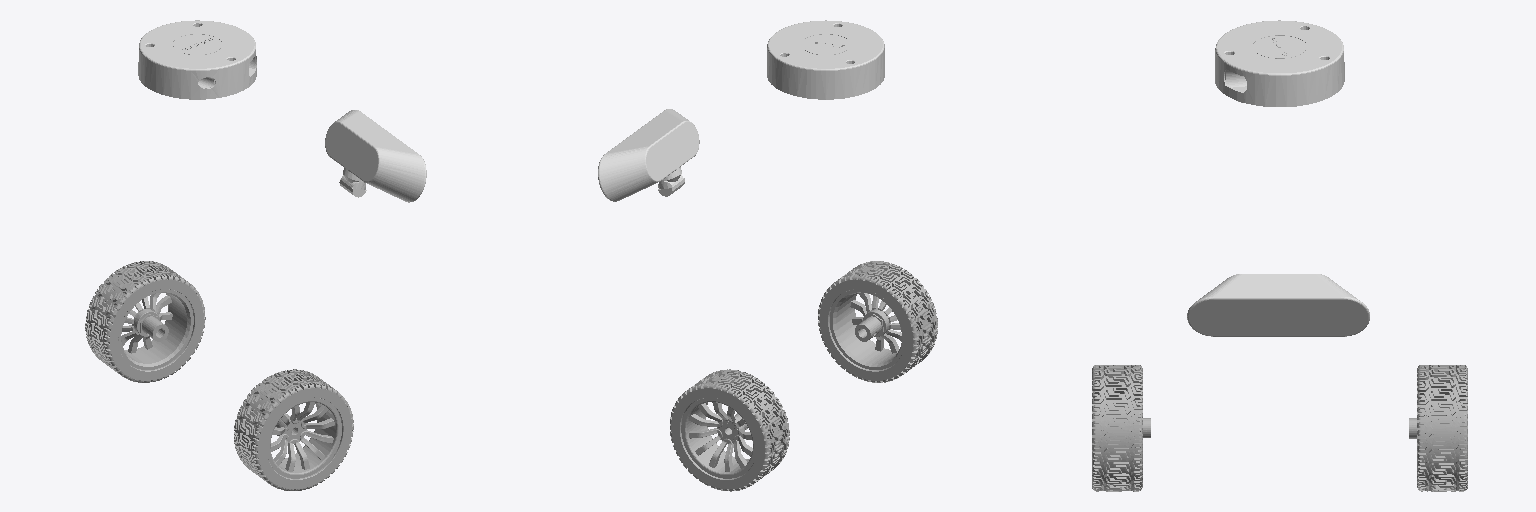
The robot description file, URDF, robot "BB2":
<?xml version="1.0" encoding="utf-8"?>
<!-- This URDF was automatically created by SolidWorks to URDF Exporter! Originally created by Stephen Brawner (brawner@gmail.com) 
     Commit Version: 1.6.0-4-g7f85cfe  Build Version: 1.6.7995.38578
     For more information, please see http://wiki.ros.org/sw_urdf_exporter -->
<robot
  name="BB2">

<!-- Standard ROS base_footprint on the floor -->
  <link name="base_footprint"/>
  <link name="base_link"/>
  <link name="laser"/>

  <!-- Aligns your SolidWorks base_link to the ROS X-Forward convention -->
  <joint name="base_footprint_joint" type="fixed">
    <!-- 
      Z = 0.01825 elevates base_link so the wheels touch the floor.
      Yaw = 3.14159265 (180 degrees) rotates X to the front and Y to the left.
    -->
    <origin xyz="0 0 0.01825" rpy="0 0 0" />
    <parent link="base_footprint" />
    <child link="base_link" />
  </joint>

  <joint name="base_link_joint" type="fixed">
    <origin xyz="0 0 0" rpy="0 0 1.57079632679" />
    <parent link="base_link" />
    <child link="original_base_link" />
  </joint>

  <joint name="laser_joint" type="fixed">
    <origin xyz="0 0 0" rpy="0 0 -1.57079632679" />
    <parent link="lidar" />
    <child link="laser" />
  </joint>



  <link
    name="original_base_link">
    <inertial>
      <origin
        xyz="-8.0385E-05 0.0016598 0.071351"
        rpy="0 0 0" />
      <mass
        value="1.0885" />
      <inertia
        ixx="0.002276"
        ixy="8.5132E-06"
        ixz="2.934E-06"
        iyy="0.0023098"
        iyz="5.8604E-05"
        izz="0.0040137" />
    </inertial>
    <visual>
      <origin
        xyz="0 0 0"
        rpy="0 0 0" />
      <geometry>
        <mesh
          filename="package://beetlebot_description/meshes/base_link.STL" />
      </geometry>
      <material
        name="">
        <color
          rgba="0.89412 0.89412 0.89412 1" />
      </material>
    </visual>


    <!-- Main chassis collision -->
  <collision name="chassis_collision">
    <origin xyz="0 0 0.02555" rpy="0 0 0"/>
    <geometry>
      <box size="0.2203 0.2203 0.0755"/>
    </geometry>
  </collision>

  <!-- Front caster -->
  <collision name="front_caster_collision">
    <origin xyz="0 -0.0842 -0.00625" rpy="0 0 0"/>
    <geometry>
      <sphere radius="0.012"/>
    </geometry>
  </collision>

  <!-- Rear caster -->
  <collision name="rear_caster_collision">
    <origin xyz="0 0.0842 -0.00625" rpy="0 0 0"/>
    <geometry>
      <sphere radius="0.012"/>
    </geometry>
  </collision>
    


  </link>
  <link
    name="left">
    <inertial>
      <origin
        xyz="-1.4815E-09 2.6796E-10 0.0041022"
        rpy="0 0 0" />
      <mass
        value="0.03468" />
      <inertia
        ixx="1.5221E-05"
        ixy="-4.9032E-10"
        ixz="2.0622E-13"
        iyy="1.522E-05"
        iyz="-4.4842E-14"
        izz="2.578E-05" />
    </inertial>
    <visual>
      <origin
        xyz="0 0 0"
        rpy="0 0 0" />
      <geometry>
        <mesh
          filename="package://beetlebot_description/meshes/left.STL" />
      </geometry>
      <material
        name="">
        <color
          rgba="0.75294 0.75294 0.75294 1" />
      </material>
    </visual>
    <collision>
      <origin
        xyz="0 0 0"
        rpy="0 0 0" />
      <geometry>
        <mesh
          filename="package://beetlebot_description/meshes/left.STL" />
      </geometry>
    </collision>
  </link>
  <joint
    name="j1"
    type="continuous">
    <origin
      xyz="0.0835000000000001 0 0.01425"
      rpy="-1.5707963267949 0 -1.5707963267949" />
    <parent
      link="original_base_link" />
    <child
      link="left" />
    <axis
      xyz="0 0 1" />
  </joint>
  <link
    name="right">
    <inertial>
      <origin
        xyz="1.0241E-09 1.1425E-09 0.0041022"
        rpy="0 0 0" />
      <mass
        value="0.03468" />
      <inertia
        ixx="1.5221E-05"
        ixy="4.0618E-10"
        ixz="-1.5048E-13"
        iyy="1.522E-05"
        iyz="-1.522E-13"
        izz="2.578E-05" />
    </inertial>
    <visual>
      <origin
        xyz="0 0 0"
        rpy="0 0 0" />
      <geometry>
        <mesh
          filename="package://beetlebot_description/meshes/right.STL" />
      </geometry>
      <material
        name="">
        <color
          rgba="0.75294 0.75294 0.75294 1" />
      </material>
    </visual>
    <collision>
      <origin
        xyz="0 0 0"
        rpy="0 0 0" />
      <geometry>
        <mesh
          filename="package://beetlebot_description/meshes/right.STL" />
      </geometry>
    </collision>
  </link>
  <joint
    name="j2"
    type="continuous">
    <origin
      xyz="-0.0832999999999999 0 0.0142500000000002"
      rpy="1.5707963267949 0 -1.5707963267949" />
    <parent
      link="original_base_link" />
    <child
      link="right" />
    <axis
      xyz="0 0 -1" />
  </joint>
  <link
    name="lidar_mesh">
    <inertial>
      <origin
        xyz="0.010274 -0.018202 0.0035346"
        rpy="0 0 0" />
      <mass
        value="0.073084" />
      <inertia
        ixx="1.9691E-05"
        ixy="-4.1969E-07"
        ixz="-7.0642E-07"
        iyy="4.1418E-05"
        iyz="-8.6284E-08"
        izz="2.4015E-05" />
    </inertial>
    <visual>
      <origin
        xyz="0 0 0"
        rpy="0 0 0" />
      <geometry>
        <mesh
          filename="package://beetlebot_description/meshes/lidar.STL" />
      </geometry>
      <material
        name="">
        <color
          rgba="0.89412 0.89412 0.89412 1" />
      </material>
    </visual>
    <collision>
      <origin
        xyz="0 0 0"
        rpy="0 0 0" />
      <geometry>
        <mesh
          filename="package://beetlebot_description/meshes/lidar.STL" />
      </geometry>
    </collision>
  </link>
  <joint
    name="base_lidar"
    type="fixed">
    <origin
      xyz="0.00149427609496322 0.0158678433509948 0.222837014511582"
      rpy="0 0 0" />
    <parent
      link="original_base_link" />
    <child
      link="lidar" />
    <axis
      xyz="0 0 0" />
  </joint>
  <link
    name="camera_tilt">
    <inertial>
      <origin
        xyz="-5.0351E-07 0.021587 0.0023344"
        rpy="0 0 0" />
      <mass
        value="0.047449" />
      <inertia
        ixx="5.1216E-06"
        ixy="-8.2978E-12"
        ixz="6.5811E-11"
        iyy="2.5545E-05"
        iyz="-4.2447E-08"
        izz="2.6753E-05" />
    </inertial>
    <visual>
      <origin
        xyz="0 0 0"
        rpy="0 0 0" />
      <geometry>
        <mesh
          filename="package://beetlebot_description/meshes/camera_tilt.STL" />
      </geometry>
      <material
        name="">
        <color
          rgba="0.89412 0.89412 0.89412 1" />
      </material>
    </visual>
    <collision>
      <origin
        xyz="0 0 0"
        rpy="0 0 0" />
      <geometry>
        <mesh
          filename="package://beetlebot_description/meshes/camera_tilt.STL" />
      </geometry>
    </collision>
  </link>

<link name="lidar"/>

<joint name="lidar_mesh_joint" type="fixed">
  <origin
    xyz="0 0 0"
    rpy="1.5707963267949 0 0"/>
  <parent link="lidar"/>
  <child link="lidar_mesh"/>
</joint>


  <joint
    name="base_camera"
    type="fixed"> <!-- type="revolute" -->
    <origin
      xyz="-0.00059463 -0.089954 0.11595"
      rpy="2.0208 0 0" />
    <parent
      link="original_base_link" />
    <child
      link="camera_tilt" />
    <axis
      xyz="0.9987 0 0.050926" />
    <!-- <limit
      lower="-0.14"
      upper="0.45"
      effort="0"
      velocity="0" /> -->
  </joint>


  <gazebo>
    
    <!-- Differential Drive Plugin -->
    <plugin filename="gz-sim-diff-drive-system" name="gz::sim::systems::DiffDrive">
      <left_joint>j1</left_joint>
      <right_joint>j2</right_joint>
      <!-- Wheel separation based on URDF j1 x(0.0835) - j2 x(-0.0833) -->
      <!-- <wheel_separation>0.1668</wheel_separation> -->
      <!-- <wheel_radius>0.0325</wheel_radius> -->

      <wheel_separation>0.1668</wheel_separation> <!-- 238 mm -->
      <wheel_radius>0.0325</wheel_radius>       <!-- 65 mm / 2 = 32.5 mm -->

      <odom_publish_frequency>100</odom_publish_frequency>
      <topic>/cmd_vel</topic>
      <odom_topic>/odom</odom_topic>
      <tf_topic>/tf</tf_topic>
      <frame_id>odom</frame_id>
      <child_frame_id>base_footprint</child_frame_id>
    </plugin>

    <!-- Joint State Publisher Plugin -->
    <plugin filename="gz-sim-joint-state-publisher-system" name="gz::sim::systems::JointStatePublisher">
      <topic>/joint_states</topic>
    </plugin>

  </gazebo>

  <gazebo reference="lidar">
<sensor name='gpu_lidar' type='gpu_lidar'>
    <pose relative_to='lidar'>0 0 0 0 0 0</pose>
    <topic>scan</topic>
    <gz_frame_id>lidar</gz_frame_id>
    <update_rate>10</update_rate>
    <ray>
        <scan>
            <horizontal>
                <samples>720</samples>
                <resolution>1</resolution>
                <min_angle>-3.14</min_angle>
                <max_angle>3.14</max_angle>
            </horizontal>
            <vertical>
                <samples>1</samples>
                <resolution>0.01</resolution>
                <min_angle>0</min_angle>
                <max_angle>0</max_angle>
            </vertical>
        </scan>
        <range>
            <min>0.08</min>
            <max>10.0</max>
            <resolution>0.01</resolution>
        </range>
         <noise>
                    <type>gaussian</type>
                    <mean>0.0</mean>
                    <stddev>0.02</stddev>
                </noise>
    </ray>
    <always_on>1</always_on>
    <visualize>true</visualize>

    <!-- <plugin name='gz::sim::systems::Sensors' filename='gz-sim-sensors-system'>
      <render_engine>ogre2</render_engine>
    </plugin> -->
</sensor></gazebo>




<!-- Invisible optical frame link for ROS TF -->
  <link name="camera_link">
  </link>

  <!-- Joint attaching the optical frame to your physical camera_tilt mesh -->
  <joint name="camera_link_joint" type="fixed">
    <!-- 
      XYZ: Shifts the frame from the pivot point to the physical center of the lens. 
           (Adjust 0.0215 and 0.0023 if your lens is slightly off from the Center of Mass).
      RPY: Standard ROS optical rotation (-pi/2, 0, -pi/2) to orient Z forward.
    -->

    <!-- 
      -->
    <origin xyz="0.0 0.0215 0.01" rpy="-1.57079632679 -1.57079632679 0.0" />    
    <parent link="camera_tilt" />
    <child link="camera_link" />
  </joint>

  <!-- Standard Optical Frame (Z-Forward, X-Right, Y-Down) -->
  <link name="camera_optical_frame"/>

  <joint name="camera_optical_joint" type="fixed">
    <origin xyz="0 0 0" rpy="-1.5707963 0 -1.5707963" />
    <parent link="camera_link" />
    <child link="camera_optical_frame" />
  </joint>


 <gazebo reference="camera_link">
        <sensor name="camera" type="camera">
            <pose> 0 0 0 0 0 0 </pose>
            <visualize>true</visualize>
            <update_rate>30</update_rate>
            <camera>
                <camera_info_topic>camera/camera_info</camera_info_topic>
                <horizontal_fov>1.151917</horizontal_fov>
                <image>
                    <format>R8G8B8</format>
                    <width>480</width>
                    <height>640</height>
                </image>
                <clip>
                    <near>0.05</near>
                    <far>8.0</far>
                </clip>
            </camera>
            <topic>camera/image_raw</topic>
            <gz_frame_id>camera_optical_frame</gz_frame_id>
        </sensor>
    </gazebo>



</robot>

--- Facts derived from the render (not from the file) ---
3 views of the same robot in one strip: view 1: azimuth 30°, elevation 25°; view 2: azimuth 150°, elevation 25°; view 3: azimuth 270°, elevation 25° (orthographic).
Robot: BB2 — 11 links, 10 joints (2 continuous, 8 fixed); root link base_footprint; default pose: every joint at zero.
Links seen in each view (by area): view 1: left, right, lidar_mesh, camera_tilt; view 2: right, left, lidar_mesh, camera_tilt; view 3: lidar_mesh, camera_tilt, left, right.
Boxes of the visible links, bbox=[...] form: left: bbox=[85, 261, 205, 382]; right: bbox=[234, 369, 353, 490]; lidar_mesh: bbox=[138, 20, 256, 99]; camera_tilt: bbox=[325, 110, 426, 202]; right: bbox=[818, 261, 937, 382]; left: bbox=[670, 369, 789, 491]; lidar_mesh: bbox=[767, 20, 884, 99]; camera_tilt: bbox=[598, 109, 699, 201]; lidar_mesh: bbox=[1215, 20, 1344, 106]; camera_tilt: bbox=[1187, 274, 1369, 336]; left: bbox=[1409, 365, 1467, 491]; right: bbox=[1092, 365, 1150, 491].
Bounding box of the posed robot: 0.166 × 0.2018 × 0.2532 m (x, y, z).
4 mesh visuals loaded from 5 distinct referenced files (4 binary STL); not drawn: 1 (reference not matched to a file when rendering).
